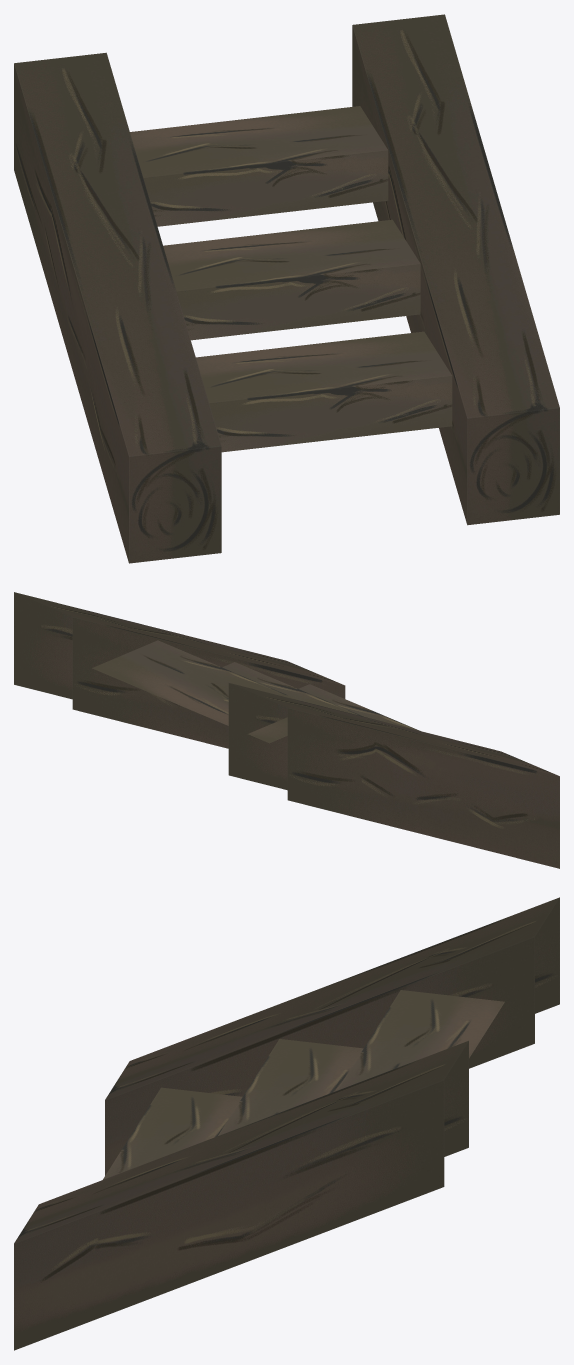
The model's file is polysurface253_txt_esca_0_lev1_lev2.glb.
3 renders of one model, top to bottom at view 1: azimuth 30°, elevation 25°; view 2: azimuth 150°, elevation 25°; view 3: azimuth 270°, elevation 25°, orthographic. The views are drawn at different scales.
Visible parts, largest first — view 1: polysurface253_txt_esca_0_lev1_lev2; view 2: polysurface253_txt_esca_0_lev1_lev2; view 3: polysurface253_txt_esca_0_lev1_lev2.
Boxes of the visible parts, x1,y1,x2,y2 form: polysurface253_txt_esca_0_lev1_lev2: (14, 14, 559, 563); polysurface253_txt_esca_0_lev1_lev2: (14, 592, 559, 868); polysurface253_txt_esca_0_lev1_lev2: (14, 897, 559, 1350).
Bounding box in the file's own units: 1.8 × 1.16 × 1.79.
1 material, 1 textured.
